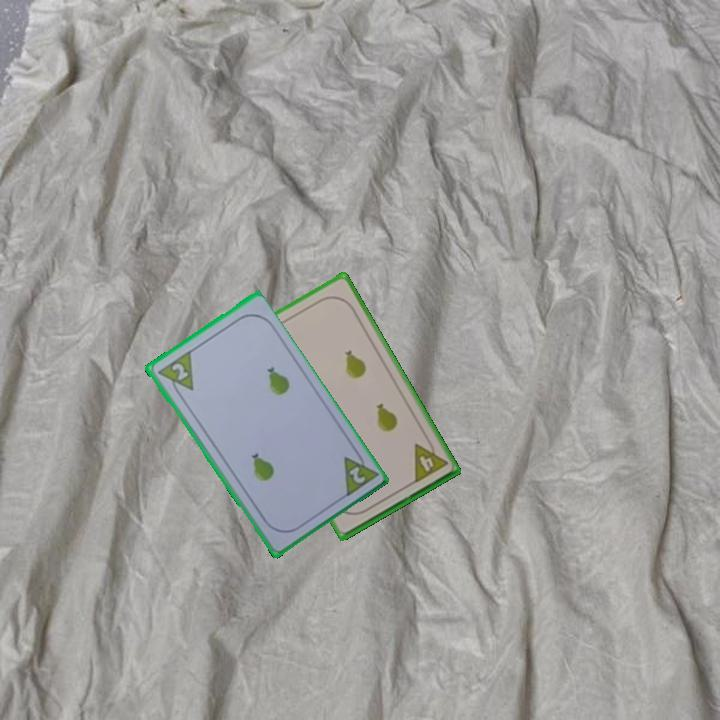2p: (339, 445, 380, 500), (167, 359, 191, 383)
4p: (410, 435, 450, 486)
